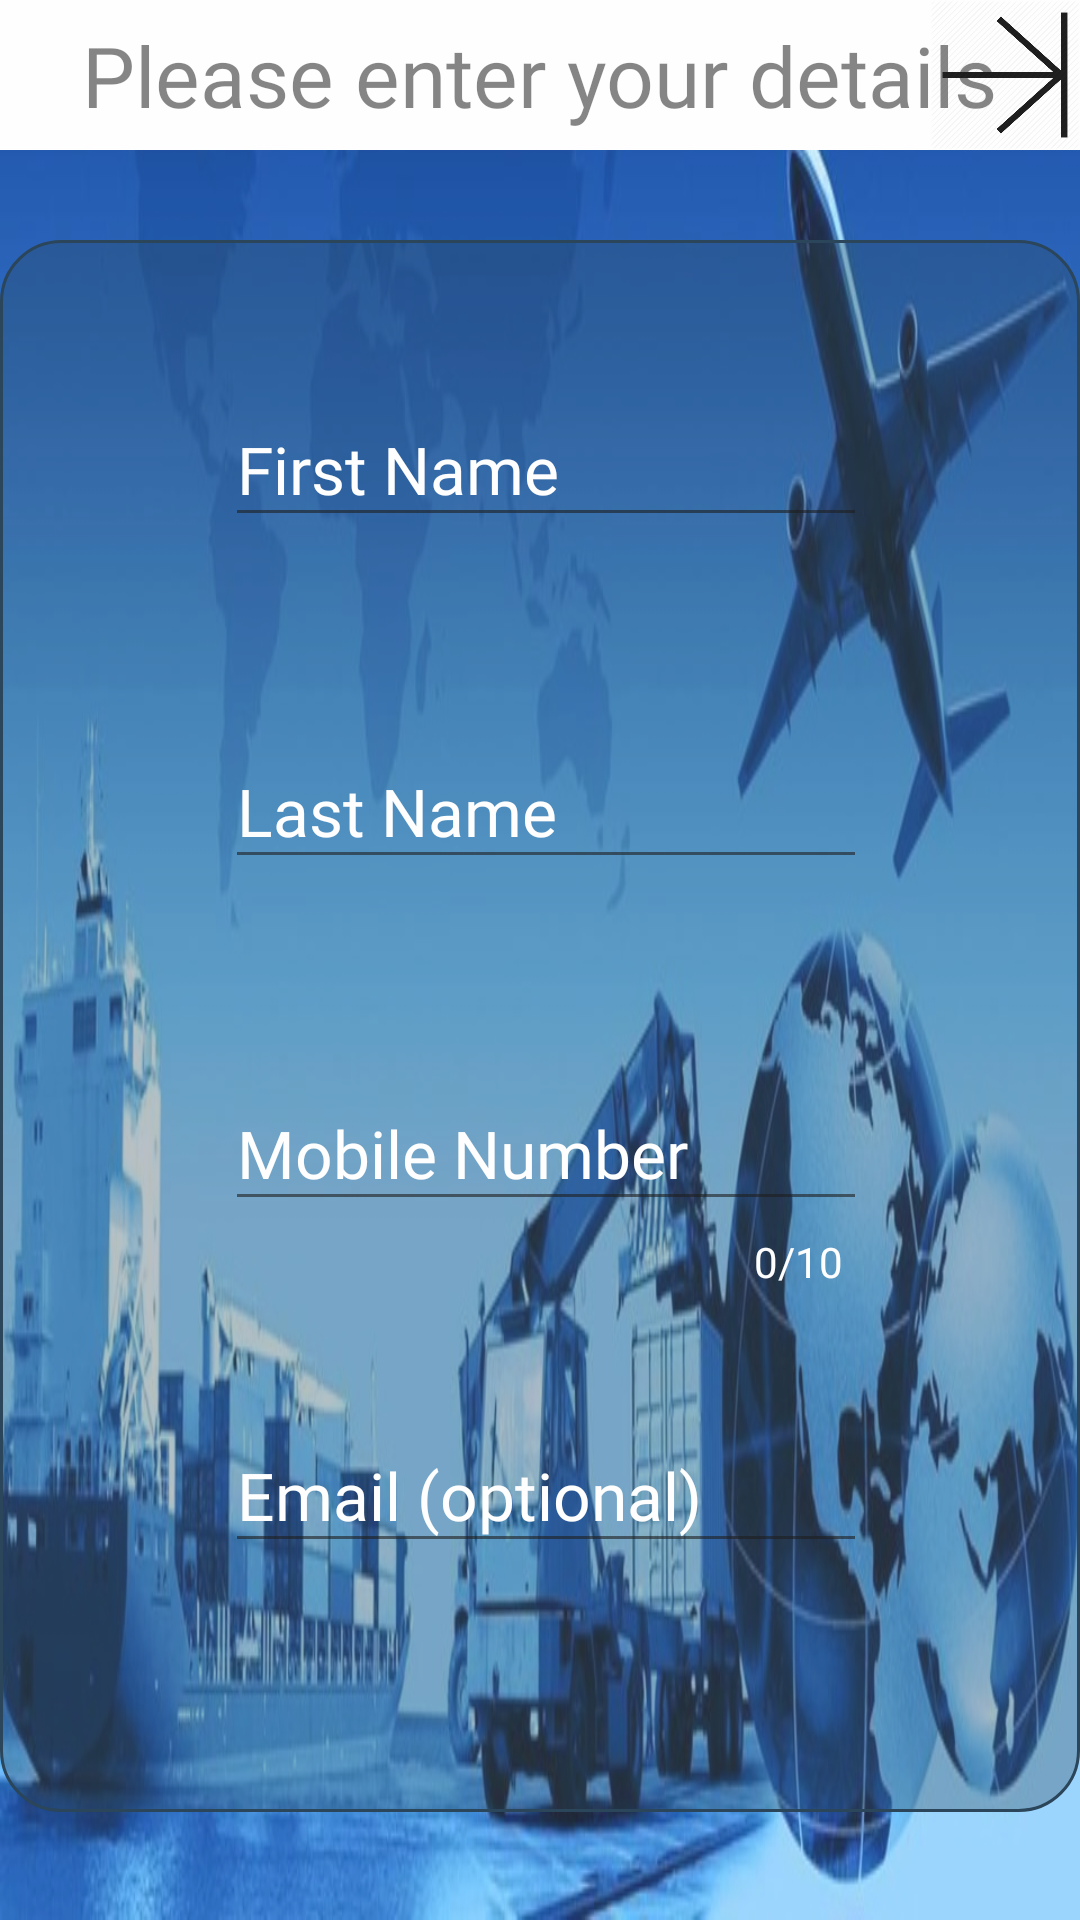

Screen size 1080px x 1920px. Icon name, then its box in pixels as BBox(x1, y1, x2, y2):
next page: BBox(940, 12, 1068, 138)
